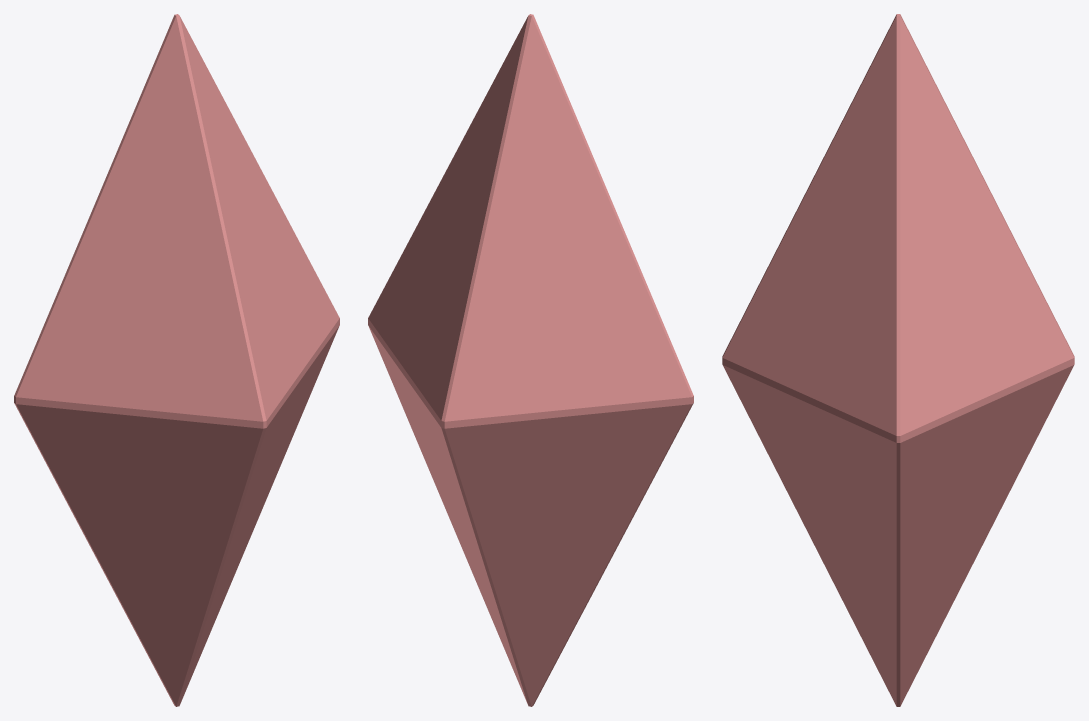
File: heal item.fbx
The picture shows the model from 3 angles, left to right: view 1: azimuth 30°, elevation 25°; view 2: azimuth 150°, elevation 25°; view 3: azimuth 270°, elevation 25°; orthographic projection.
Visible parts, largest first — view 1: Cube; view 2: Cube; view 3: Cube.
Part boxes in pixels (box(x1,y1,x2,y2)): Cube: box(14, 14, 339, 706); Cube: box(368, 14, 693, 706); Cube: box(722, 14, 1074, 706).
Bounding box in the file's own units: 213 × 433 × 200.
